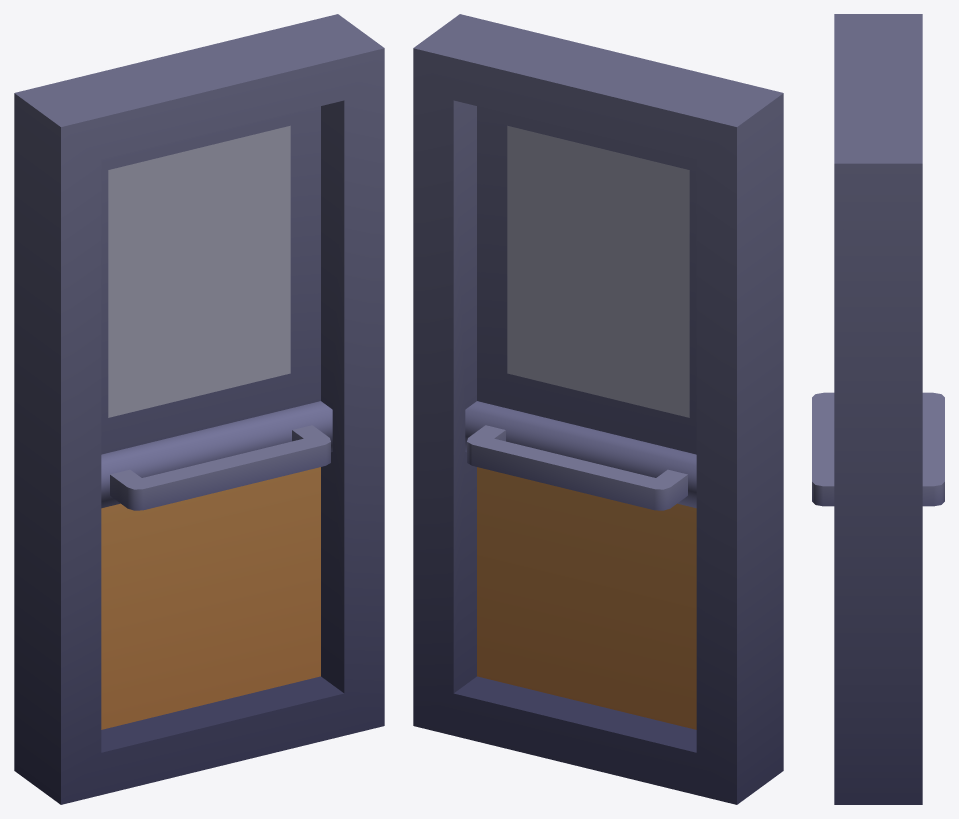
Rendered from door.glb.
3 renders of one model, left to right at view 1: azimuth 30°, elevation 25°; view 2: azimuth 150°, elevation 25°; view 3: azimuth 270°, elevation 25°, orthographic. The views are drawn at different scales.
Parts seen in each view (by area): view 1: door; view 2: door; view 3: door.
Part boxes in pixels (x1=…): door: x1=14, y1=14, x2=384, y2=804; door: x1=413, y1=14, x2=783, y2=804; door: x1=812, y1=14, x2=944, y2=804.
Size of the model in its own units: 0.8 by 1.6 by 0.3.
